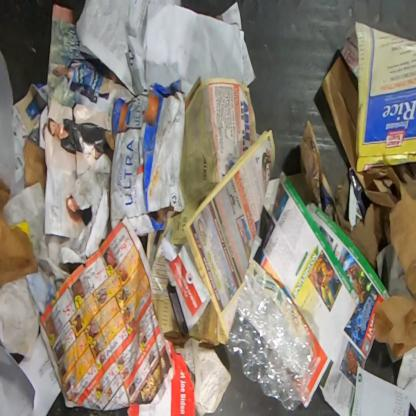cardboard: (110, 80, 186, 237), (340, 19, 415, 172)
soft_plastic: (227, 268, 316, 412)
